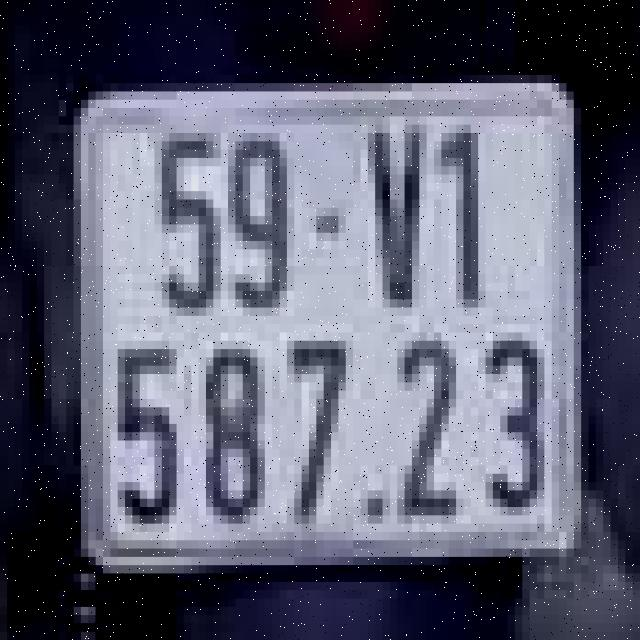1: (438, 125, 504, 316)
2: (390, 324, 471, 532)
3: (482, 332, 555, 524)
5: (103, 345, 184, 528), (151, 125, 224, 324)
7: (283, 320, 357, 536)
8: (187, 337, 276, 536)
9: (228, 133, 302, 316)
V: (353, 116, 427, 316)
